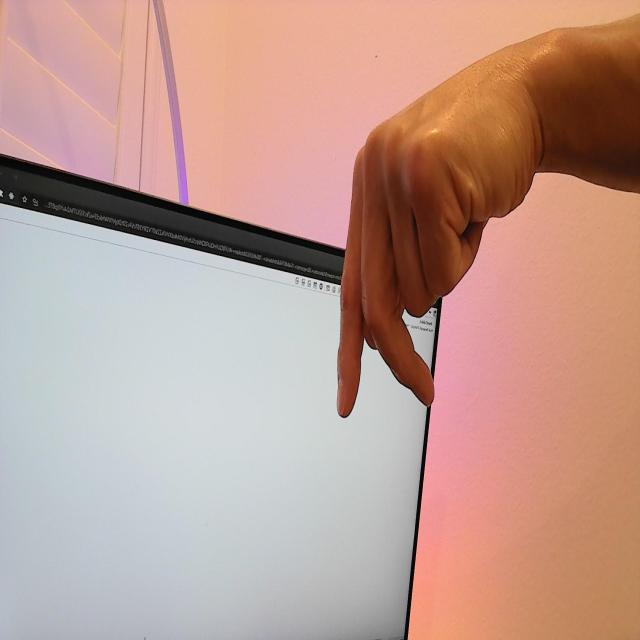P: (330, 40, 539, 427)
